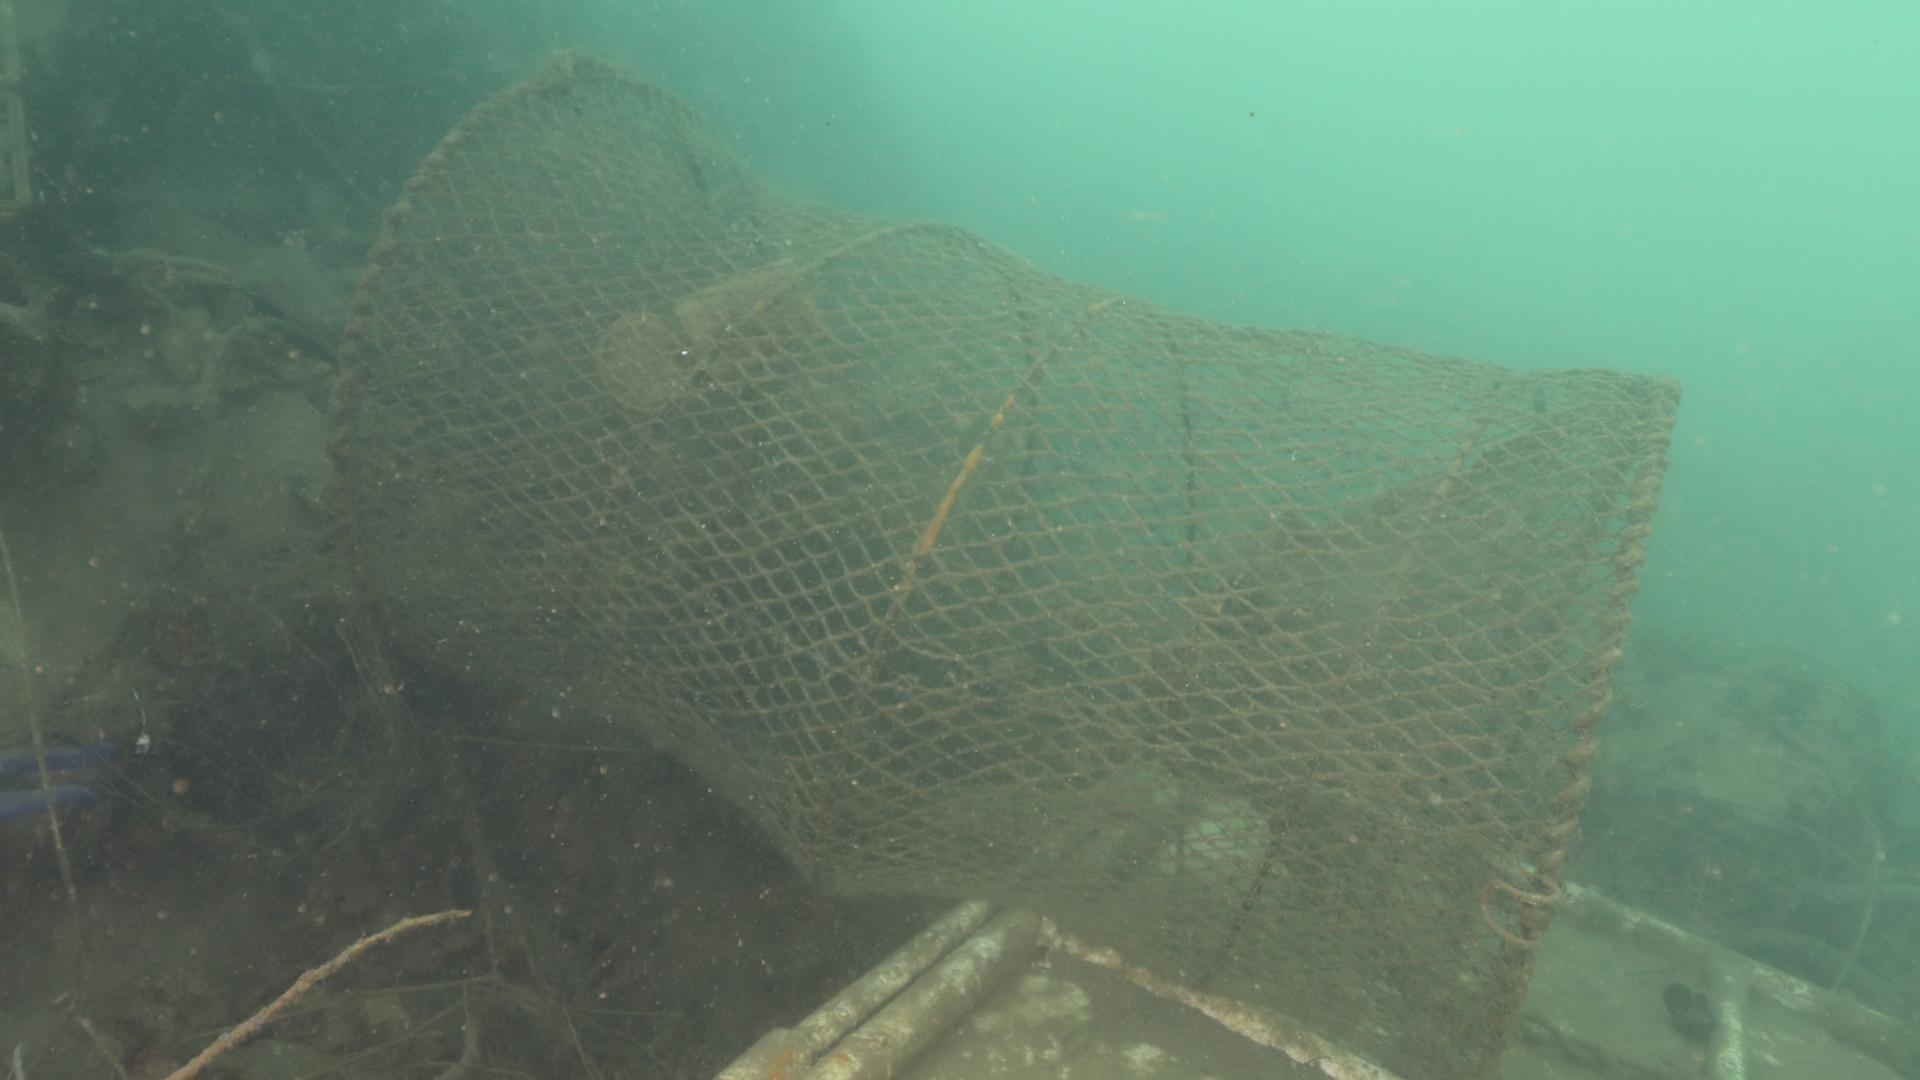spring fish trap: (324, 45, 1685, 1080)
